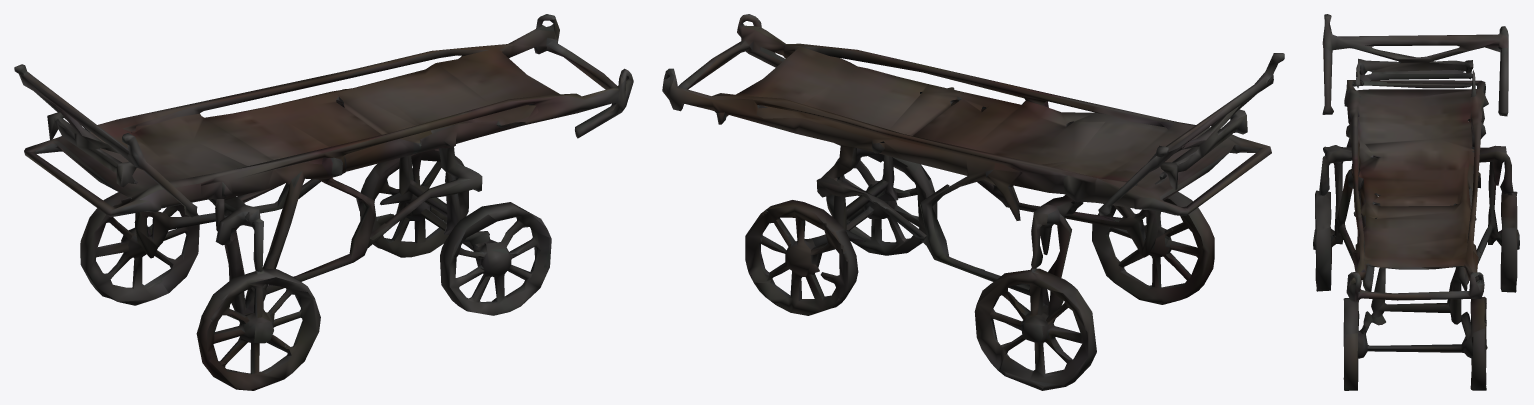
Rendered from simple-iron-gurney-v002.glb.
3 views of the same model, side by side, from view 1: azimuth 30°, elevation 25°; view 2: azimuth 150°, elevation 25°; view 3: azimuth 270°, elevation 25° (orthographic). The views are drawn at different scales.
Visible parts, largest first — view 1: simple-iron-gurney; view 2: simple-iron-gurney; view 3: simple-iron-gurney.
Boxes of the visible parts, box(x1,y1,x2,y2) form: simple-iron-gurney: box(14, 14, 633, 390); simple-iron-gurney: box(662, 14, 1284, 390); simple-iron-gurney: box(1313, 14, 1519, 390).
Size of the model in its own units: 1.56 by 0.7935 by 0.6663.
Materials: 1 (1 with a texture image).
